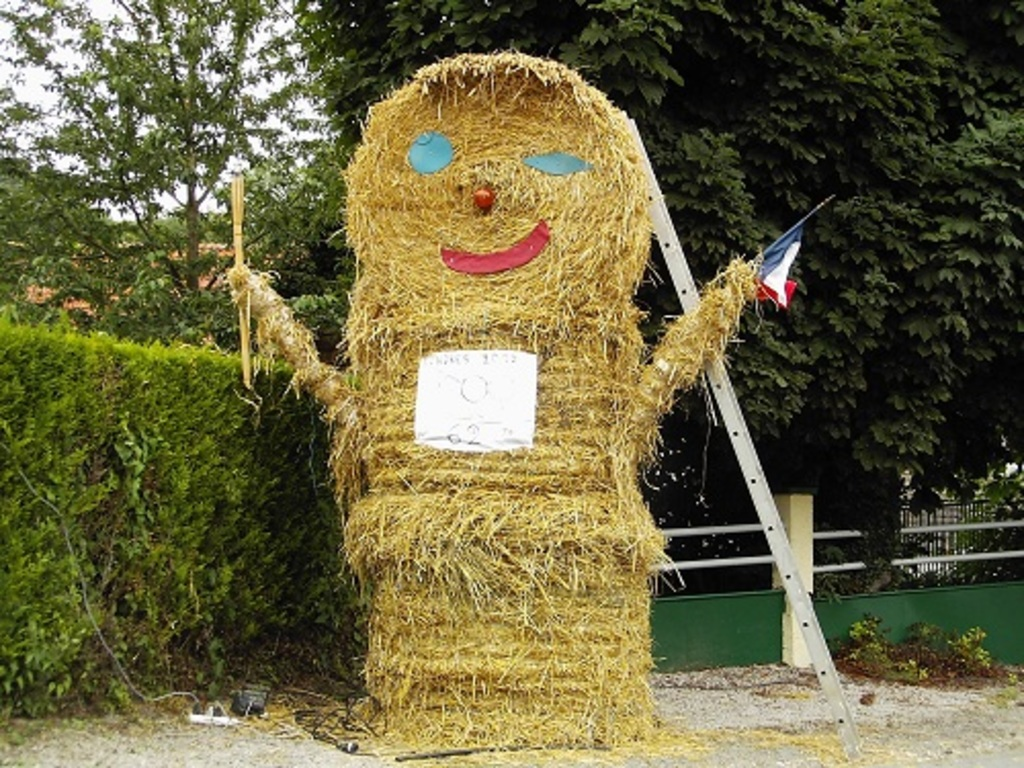Tree: (289, 0, 1024, 525), (0, 0, 319, 299)
